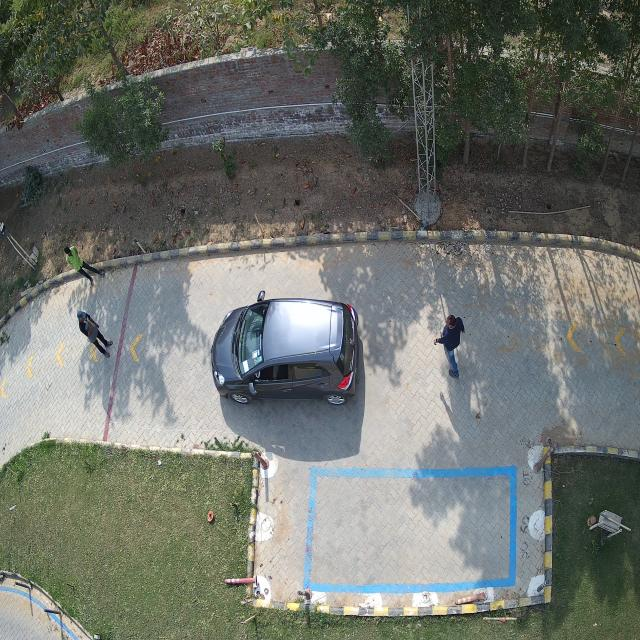car: (211, 292, 359, 405)
